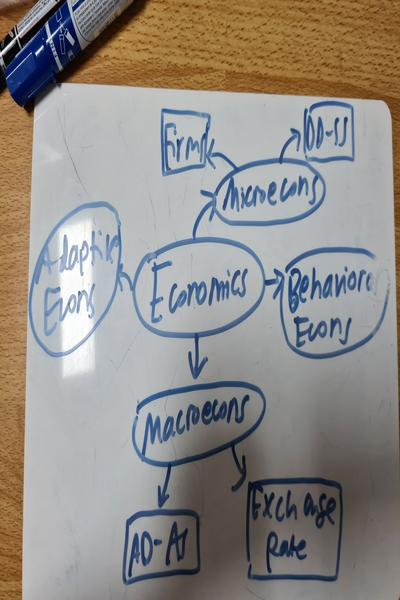arrow: (192, 190, 214, 237), (207, 139, 237, 172), (188, 334, 207, 381), (231, 445, 246, 493), (281, 127, 302, 161), (116, 263, 134, 295), (159, 463, 171, 509), (265, 268, 282, 300)
idea: (245, 479, 342, 581), (121, 509, 202, 584), (160, 107, 210, 177), (303, 101, 356, 163)
topic: (29, 202, 121, 357), (132, 239, 265, 336), (282, 248, 390, 358), (134, 382, 266, 466), (215, 159, 327, 226)
